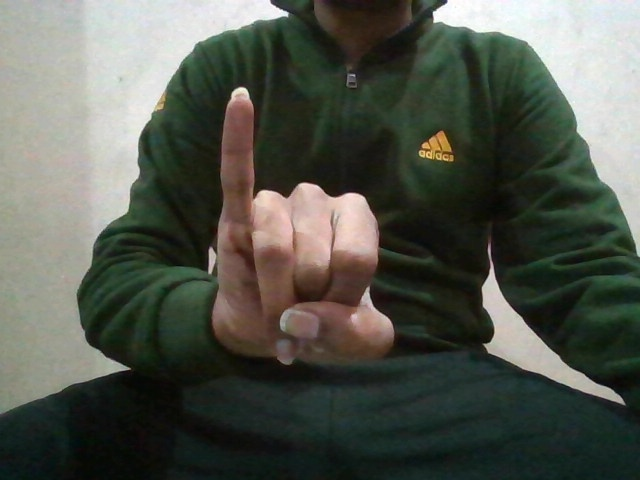I: (209, 82, 400, 370)
